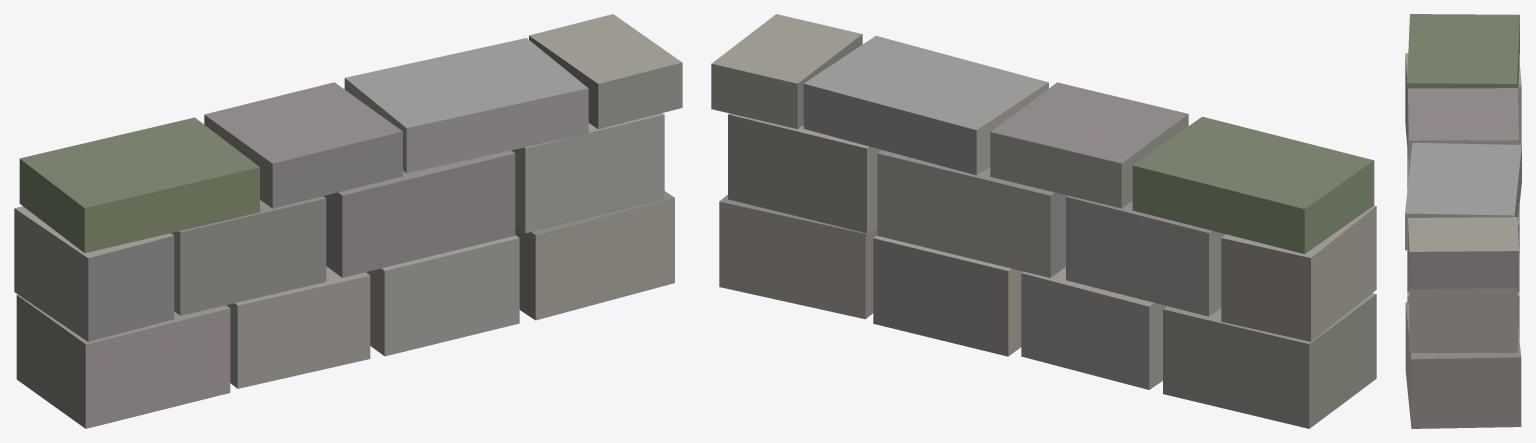
File: Piece_StoneWallLow.glb
3 views of the same model, side by side, from view 1: azimuth 30°, elevation 25°; view 2: azimuth 150°, elevation 25°; view 3: azimuth 270°, elevation 25° (orthographic). The views are drawn at different scales.
Visible parts, largest first — view 1: Piece_StoneWallLow; view 2: Piece_StoneWallLow; view 3: Piece_StoneWallLow.
Part boxes in pixels (<box>): Piece_StoneWallLow: <box>14,14,682,428</box>; Piece_StoneWallLow: <box>711,14,1376,428</box>; Piece_StoneWallLow: <box>1405,14,1521,428</box>.
Bounding box in the file's own units: 3.97 × 1.39 × 0.8193.
